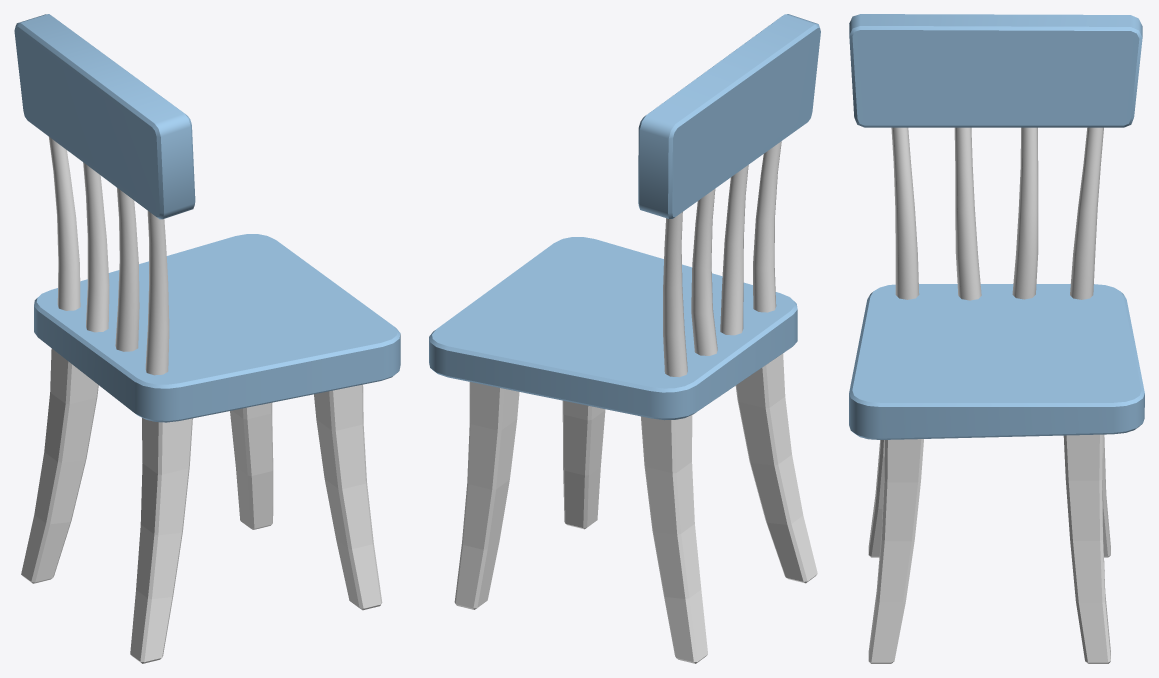
File: Chair.002.fbx
The picture shows the model from 3 angles, left to right: view 1: azimuth 30°, elevation 25°; view 2: azimuth 150°, elevation 25°; view 3: azimuth 270°, elevation 25°; orthographic projection.
Visible parts, largest first — view 1: Chair.002; view 2: Chair.002; view 3: Chair.002.
Boxes of the visible parts, x1,y1,x2,y2 form: Chair.002: [14, 14, 400, 663]; Chair.002: [429, 14, 820, 663]; Chair.002: [849, 14, 1144, 663].
Size of the model in its own units: 0.5569 by 1.11 by 0.5522.
